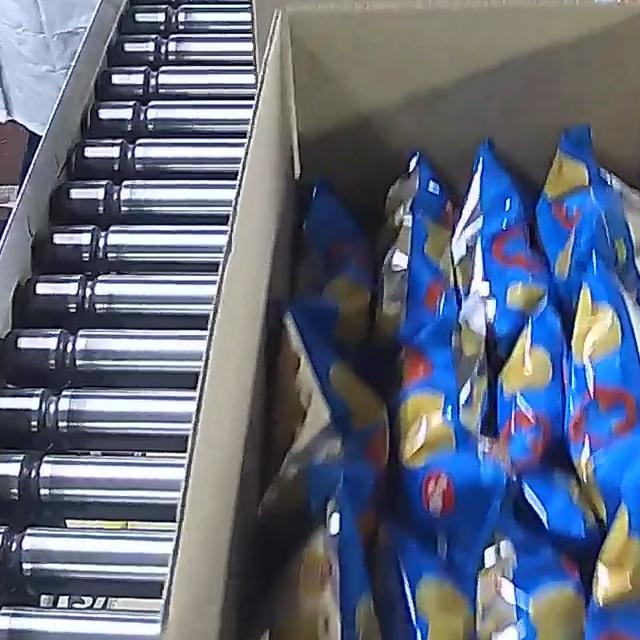paprika: (267, 122, 640, 640)
